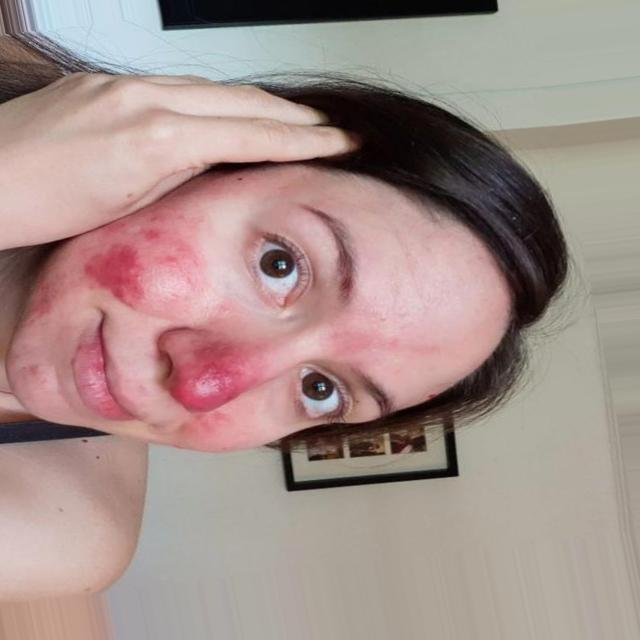Rosacea: (25, 206, 213, 322), (173, 343, 269, 414), (171, 409, 262, 464)
